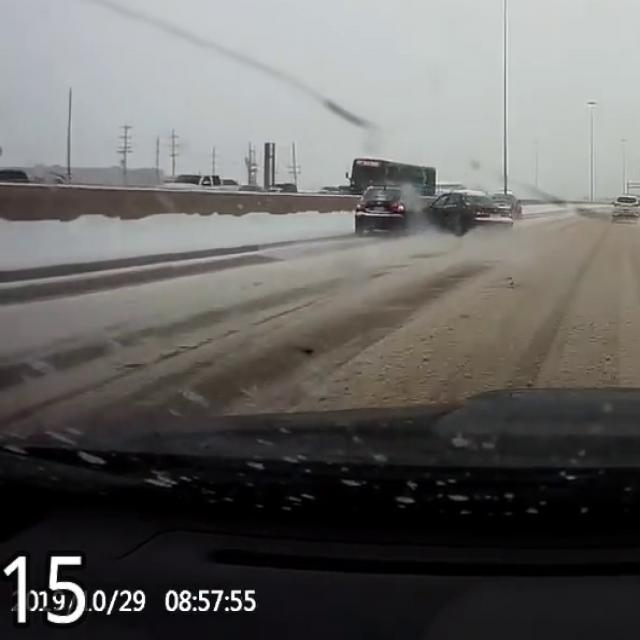accident: (366, 190, 502, 256)
